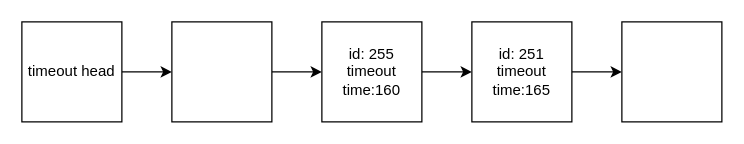
The diagram is 744 pixels wide and 144 high, and some of its shapes have lost their labels. Here are the shapes that lost their labels. From the top down, the centre of each, then its label:
point 221,71: id: 250 timeout time:150
point 671,71: id: 240 timeout time:1000
